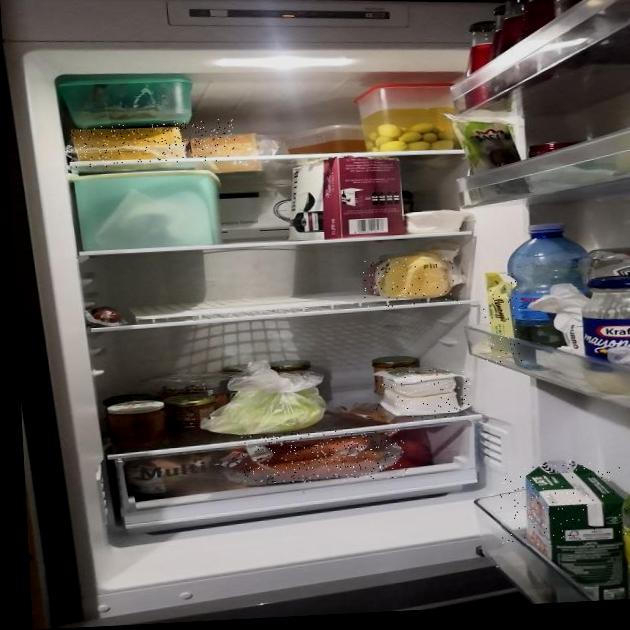butter: (481, 273, 522, 363)
carrots: (240, 427, 408, 486)
cheese: (68, 118, 236, 169), (374, 367, 473, 422), (362, 255, 461, 309)
milk: (499, 461, 629, 547)
